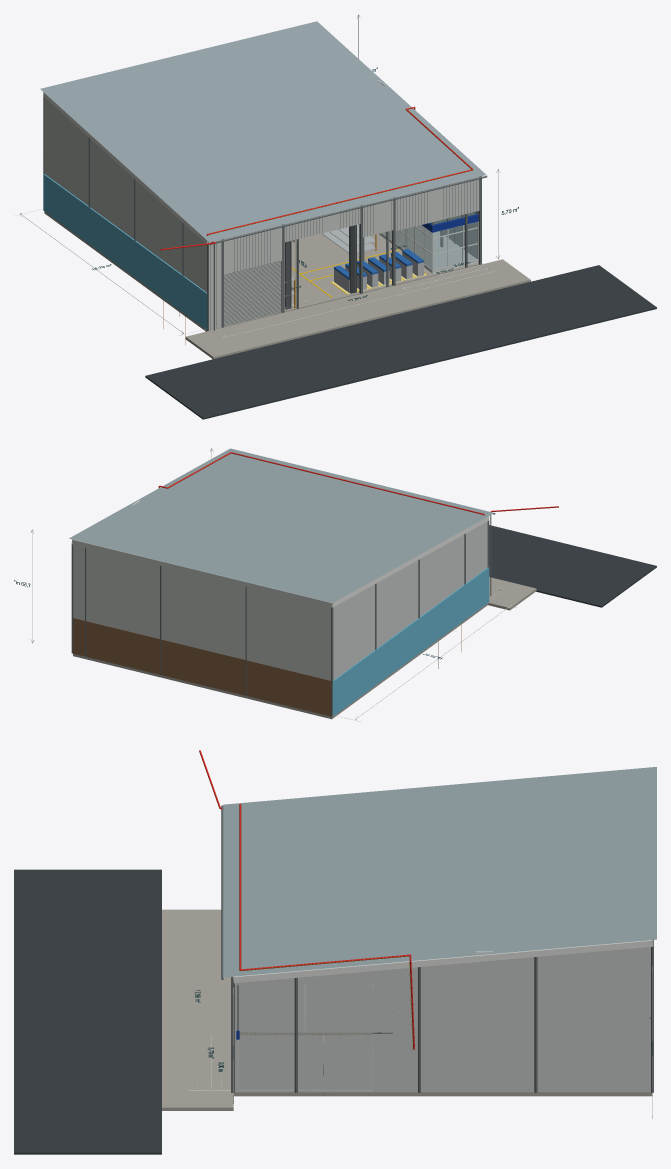
Rendered from Xuong-2_Toan-cum_So-bo_R30.glb.
3 renders of one model, top to bottom at view 1: azimuth 30°, elevation 25°; view 2: azimuth 150°, elevation 25°; view 3: azimuth 270°, elevation 25°, orthographic. The views are drawn at different scales.
Parts seen in each view (by area): view 1: Mai-mot-doc, Mat-duong, Ton-trai, San-truoc-cua, Tuong-trai, Nen, Cua-cuon-trai, Ton-mat-tien-6, Ton-mat-tien-1, Nen-phong, Kinh-mat-duong, Ton-mat-tien-3 (+5 smaller); view 2: Mai-mot-doc, Ton-sau, Vach-sau-duoi, Ton-trai, Mat-duong, Tuong-trai, Nen, San-truoc-cua, Keo-0, Cap-nhanh-2-1; view 3: Mai-mot-doc, Ton-phai, Mat-duong, San-truoc-cua, Keo-4, Nen.
Boxes of the visible parts, x1,y1,x2,y2 form: Mai-mot-doc: (40,21,486,242); Mat-duong: (145,265,656,419); Ton-trai: (45,98,206,292); San-truoc-cua: (185,259,530,358); Tuong-trai: (43,174,207,329); Nen: (44,211,479,331); Cua-cuon-trai: (224,261,280,325); Ton-mat-tien-6: (395,177,478,230); Ton-mat-tien-1: (224,225,281,274); Nen-phong: (380,225,477,273); Kinh-mat-duong: (433,222,477,271); Ton-mat-tien-3: (285,206,360,242); Mai-mot-doc: (69,448,493,602); Ton-sau: (72,539,331,680); Vach-sau-duoi: (73,618,330,716); Ton-trai: (333,521,487,679); Mat-duong: (489,525,656,607); Tuong-trai: (333,567,489,716); Nen: (73,603,488,719); San-truoc-cua: (488,577,536,610); Keo-0: (332,516,489,607); Cap-nhanh-2-1: (231,452,483,514); Mai-mot-doc: (223,767,656,977); Ton-phai: (235,940,652,1092); Mat-duong: (14,869,161,1154); San-truoc-cua: (162,909,233,1110); Keo-4: (233,940,652,983); Nen: (234,1092,652,1096).
Bounding box in the file's own units: 29.9 × 10.5 × 28.7.
